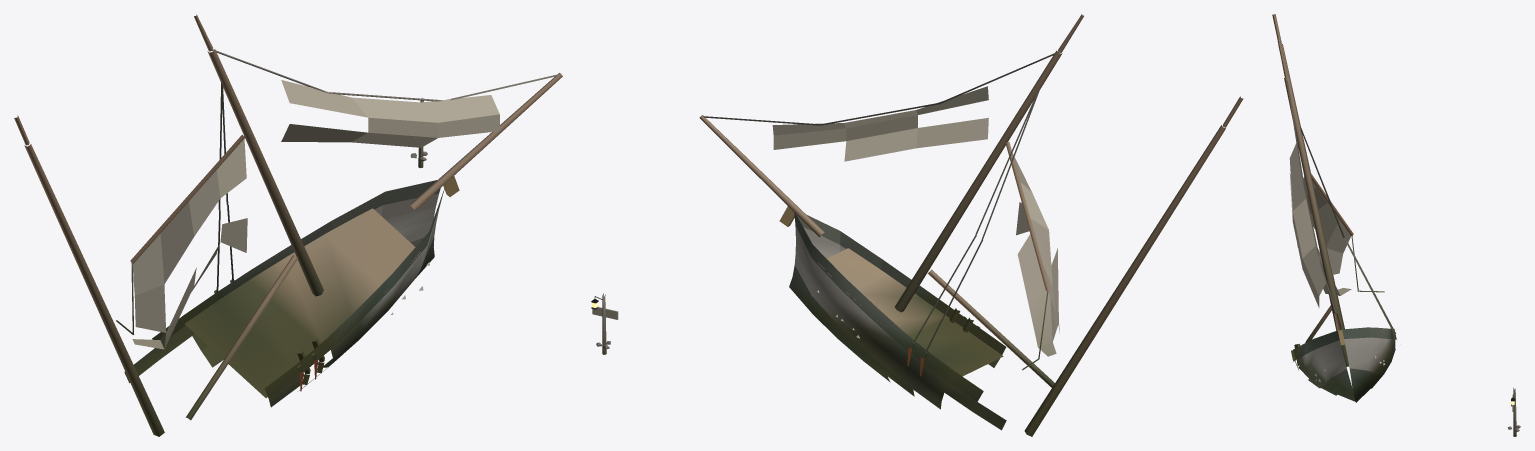
Rendered from wreck_schooner_sunk.glb.
3 renders of one model, left to right at view 1: azimuth 30°, elevation 25°; view 2: azimuth 150°, elevation 25°; view 3: azimuth 270°, elevation 25°, orthographic. The views are drawn at different scales.
Parts seen in each view (by area): view 1: hull, rag; view 2: hull, rag; view 3: hull, rag.
Boxes of the visible parts, <box> form: hull: <box>14,14,562,436</box>; rag: <box>132,80,499,349</box>; hull: <box>699,14,1243,436</box>; rag: <box>772,86,1059,356</box>; hull: <box>1272,14,1396,402</box>; rag: <box>1289,143,1351,307</box>.
Size of the model in its own units: 22.06 by 16.36 by 11.33.
